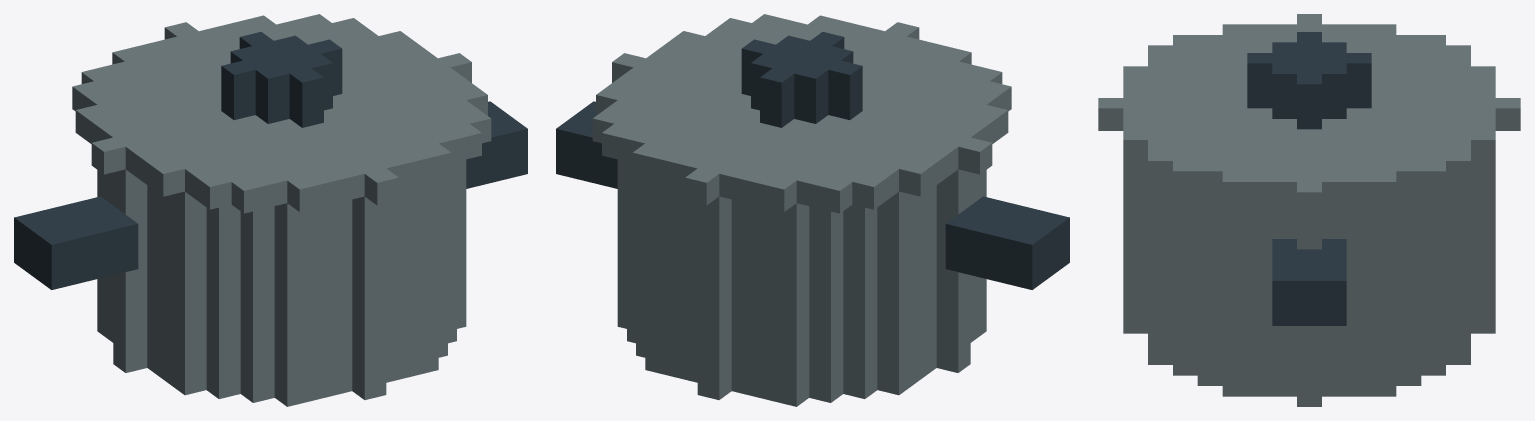
The model's file is food-10.glb.
The picture shows the model from 3 angles, left to right: view 1: azimuth 30°, elevation 25°; view 2: azimuth 150°, elevation 25°; view 3: azimuth 270°, elevation 25°; orthographic projection.
Visible parts, largest first — view 1: Stock pot; view 2: Stock pot; view 3: Stock pot.
Part boxes in pixels (box(x1,y1,x2,y2)): Stock pot: box(14, 14, 527, 406); Stock pot: box(556, 14, 1069, 406); Stock pot: box(1098, 14, 1520, 406).
Size of the model in its own units: 1.76 by 0.96 by 1.36.
